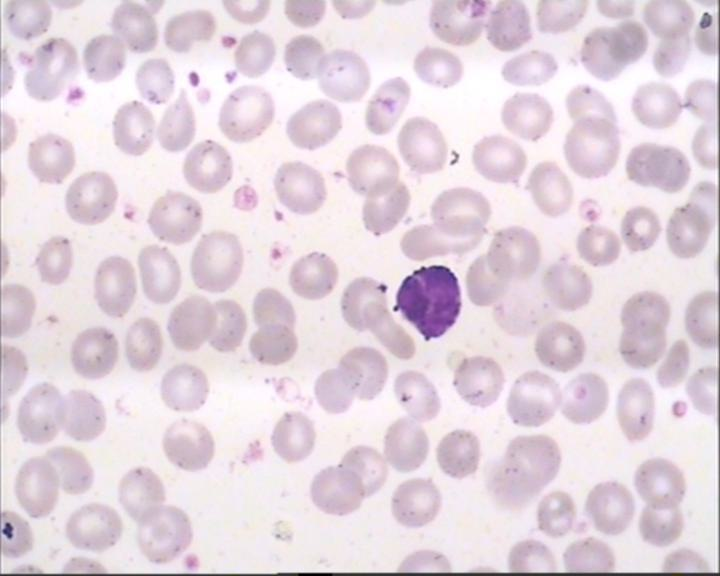baso: (392, 261, 468, 343)
